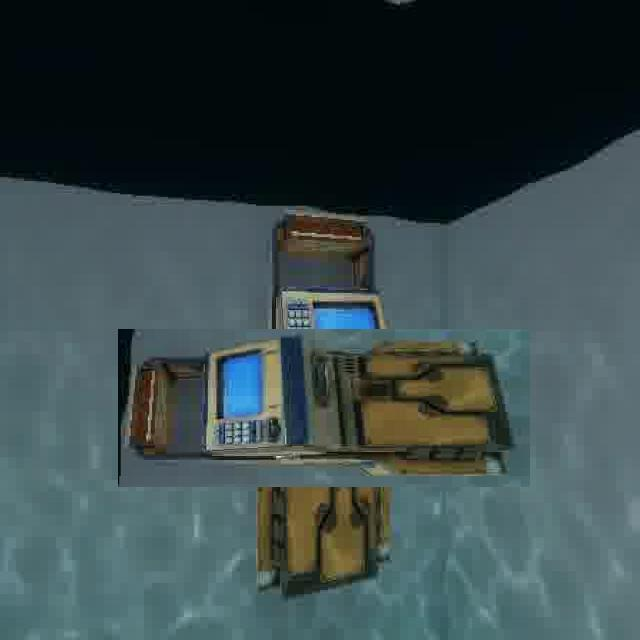Control Panel: (182, 266, 466, 552)
